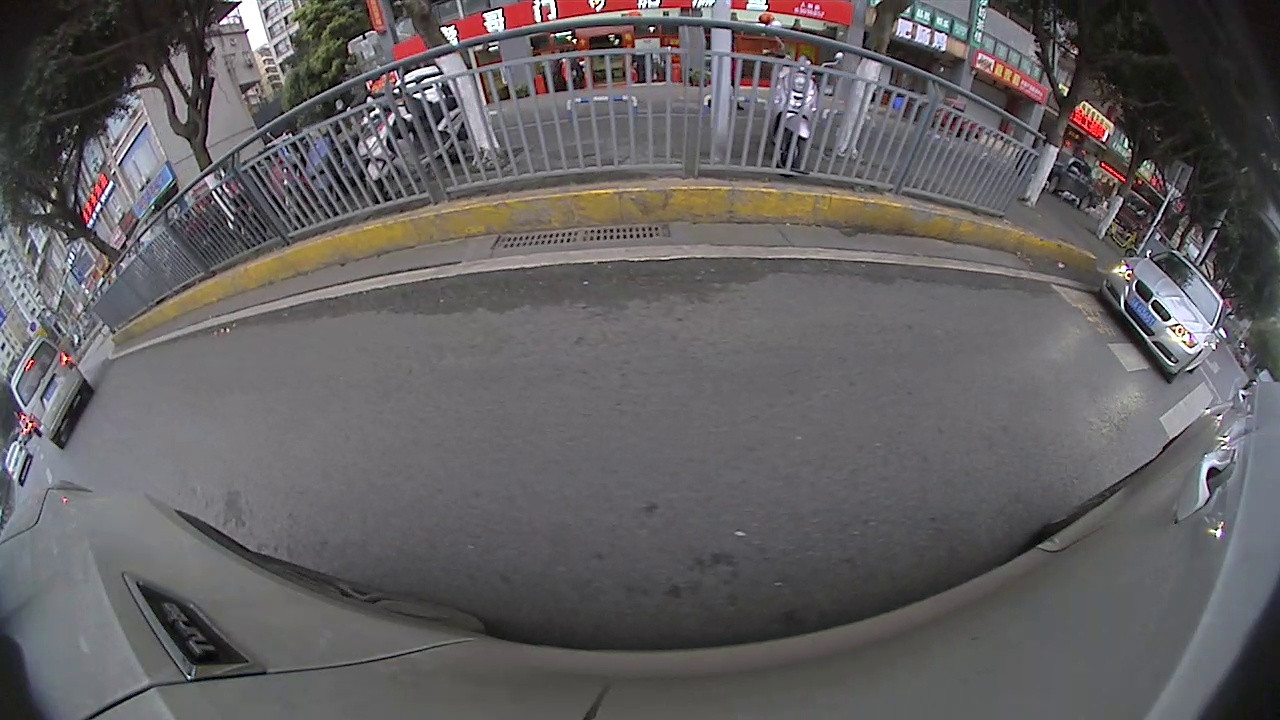car: (1100, 247, 1232, 385), (5, 337, 97, 450)
front: (1046, 175, 1063, 194)
rear: (1077, 193, 1097, 210)
rider: (340, 70, 471, 206), (767, 16, 847, 181)
